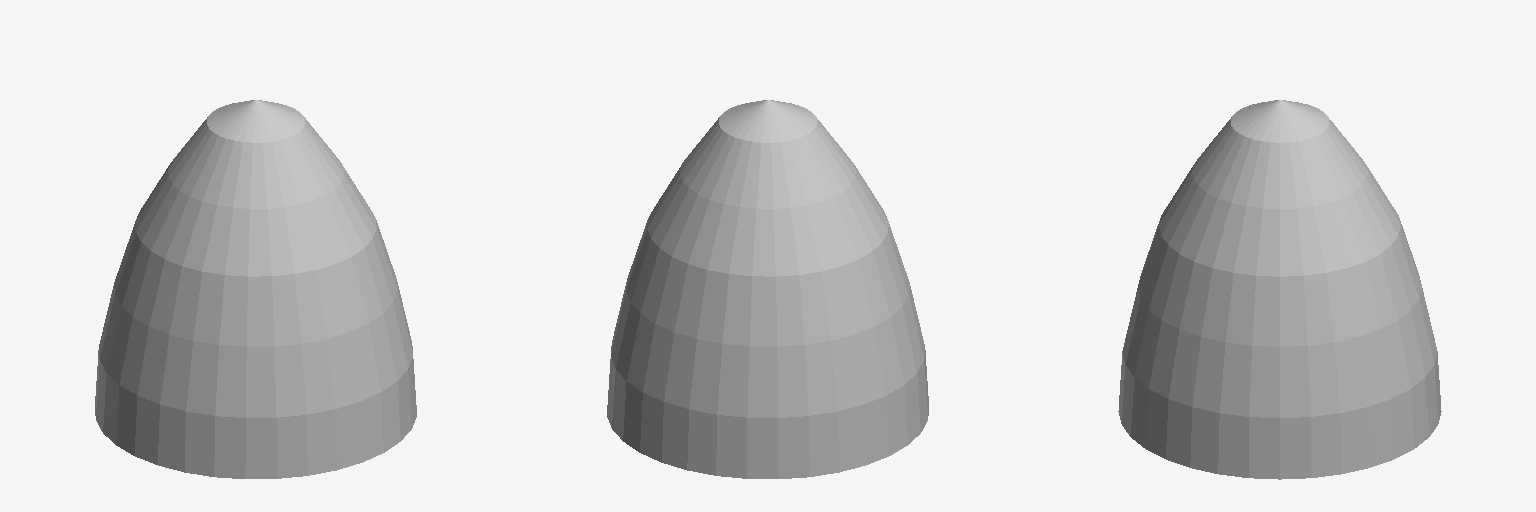
File: ShellPara.obj
3 views of the same model, side by side, from view 1: azimuth 30°, elevation 25°; view 2: azimuth 150°, elevation 25°; view 3: azimuth 270°, elevation 25° (orthographic).
Parts seen in each view (by area): view 1: Cone; view 2: Cone; view 3: Cone.
Part boxes in pixels (x1,y1,x2,y2): Cone: (95,100,416,478); Cone: (607,100,928,478); Cone: (1118,100,1441,479).
Bounding box in the file's own units: 0.5944 × 0.6347 × 0.5944.